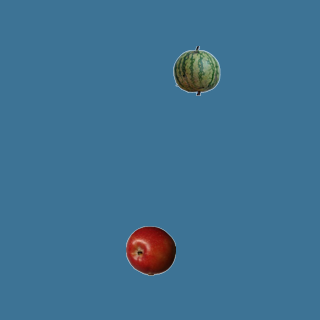Apple Braeburn: (125, 225, 175, 275)
Watermelon: (171, 45, 221, 95)
